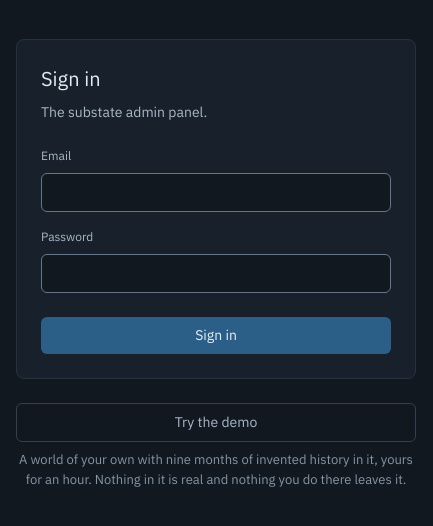
Scenario: trying the demonstration › says what the service said when there is no world to be had
The image size is (433, 526).
Click the button "Try the demo": (216, 422) left=16, top=403, right=416, bottom=442
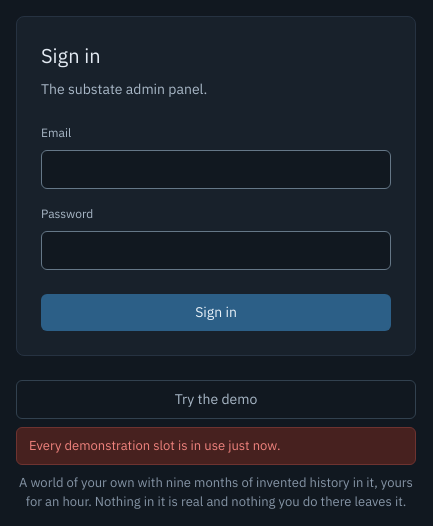
Result: the text "Every demonstration slot is in use just now." is shown at left=29, top=436, right=280, bottom=456
